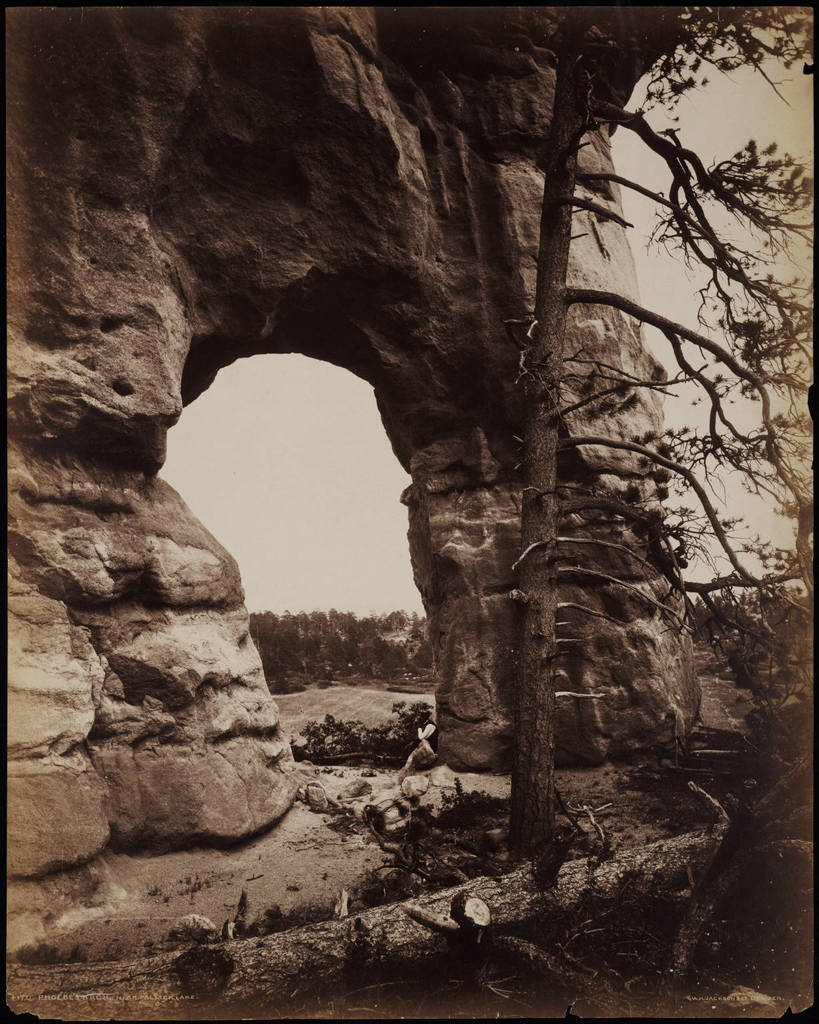Tree: (344, 0, 818, 931), (250, 608, 356, 702)
